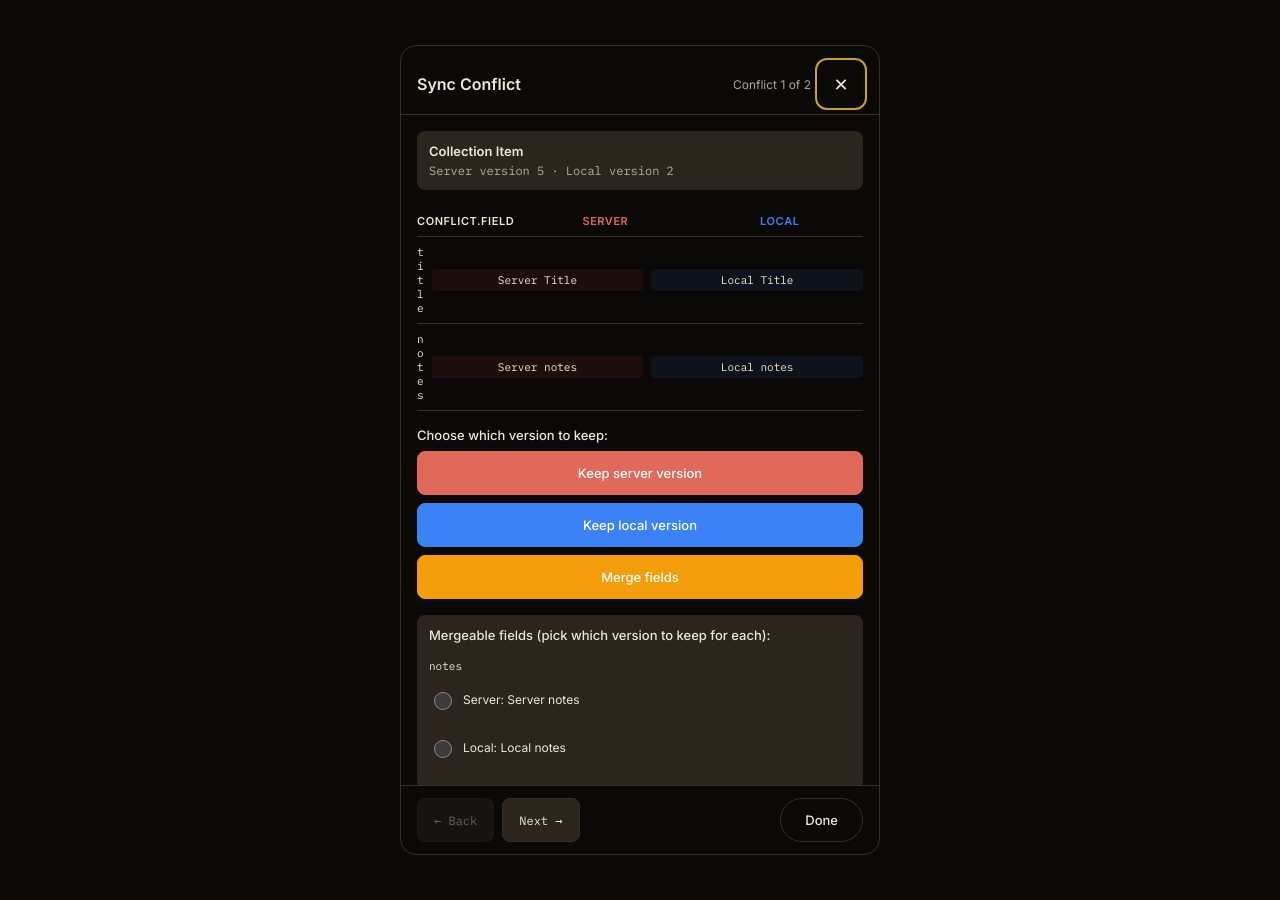
Test case: ConflictResolutionModal with conflicts › navigates to previous conflict
Expected: the text "Conflict 1 of 2" is shown, x1=733 y1=76 x2=811 y2=92
Go to next, then back
Click the button "Next →".
click(541, 820)  # box x1=502 y1=798 x2=580 y2=842
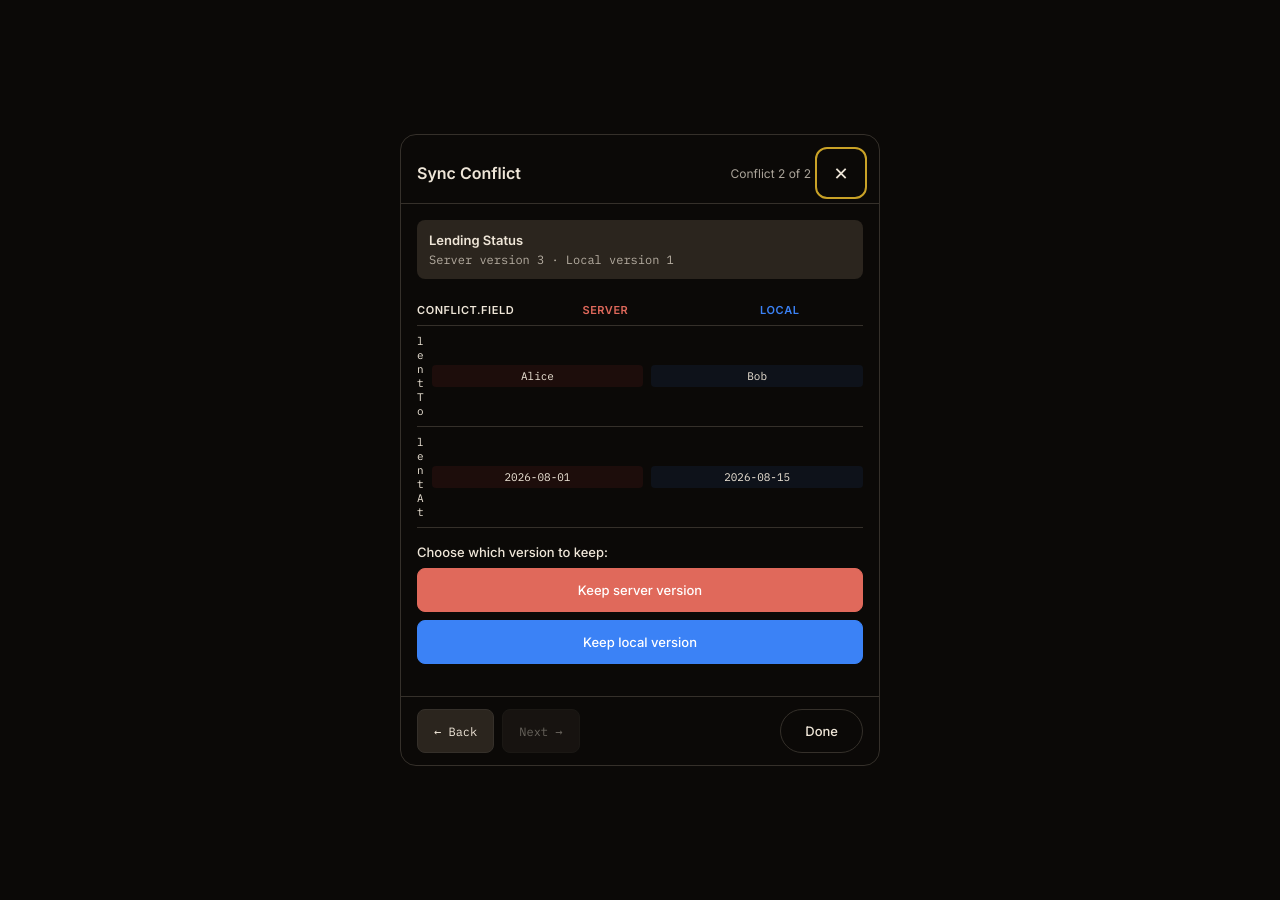
Now the text "Conflict 2 of 2" is shown, box x1=730 y1=166 x2=811 y2=180
Click the button "← Back".
click(456, 731)  # box x1=417 y1=709 x2=494 y2=753
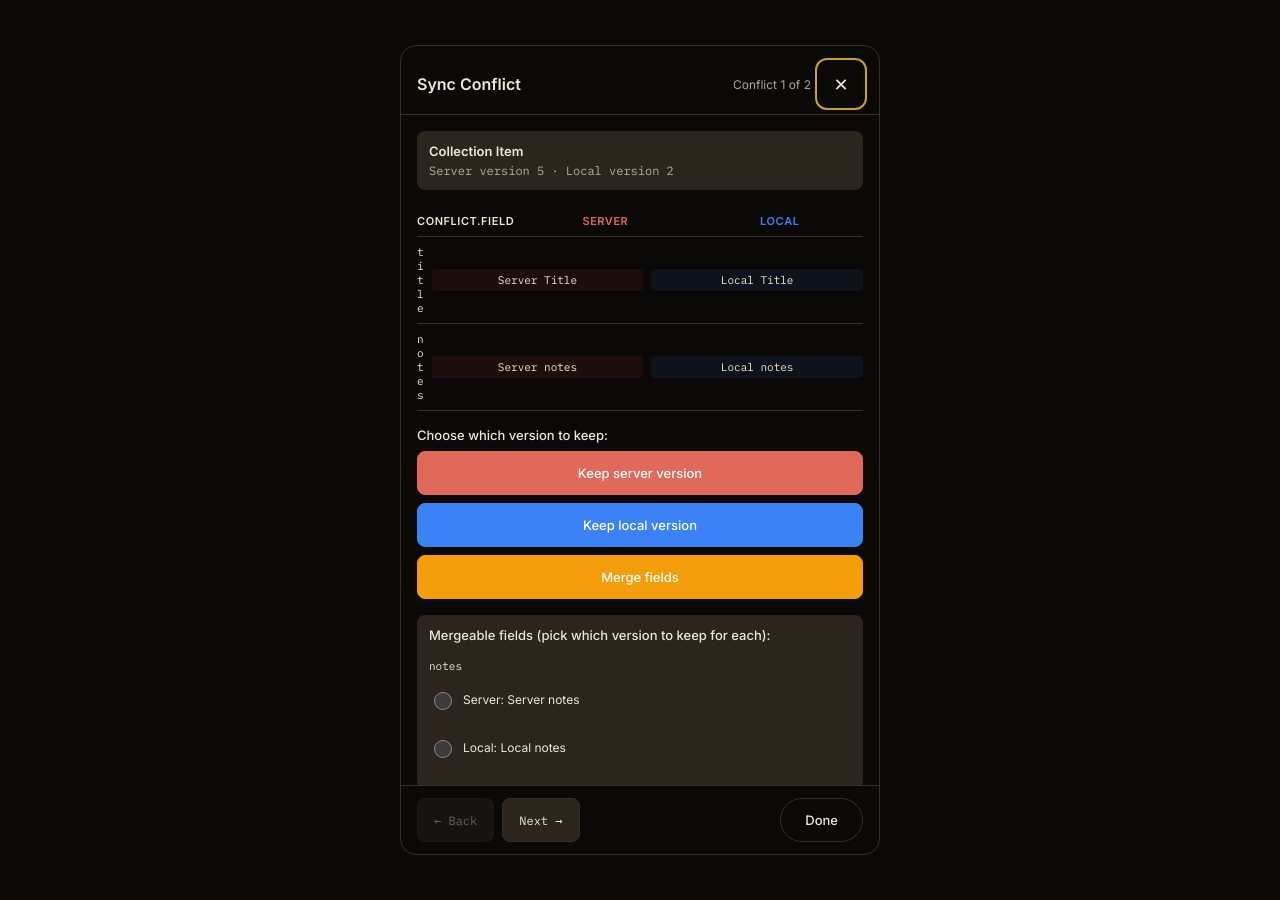
Now the text "Conflict 1 of 2" is shown, box x1=733 y1=76 x2=811 y2=92
